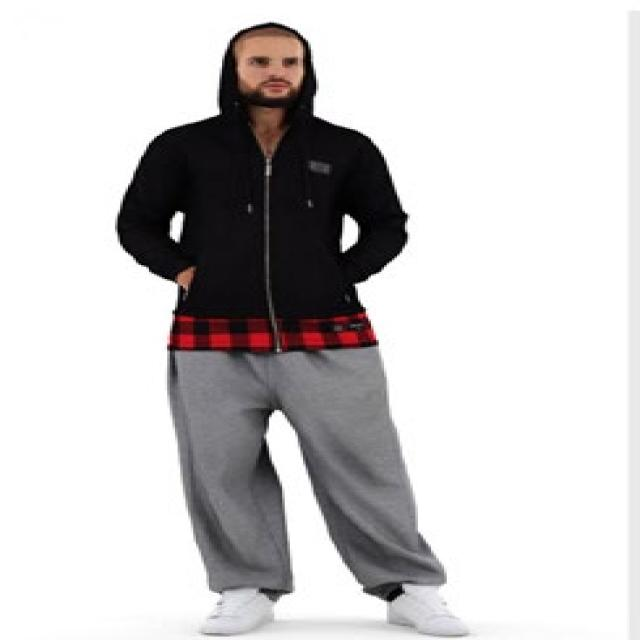standing: (112, 21, 474, 640)
